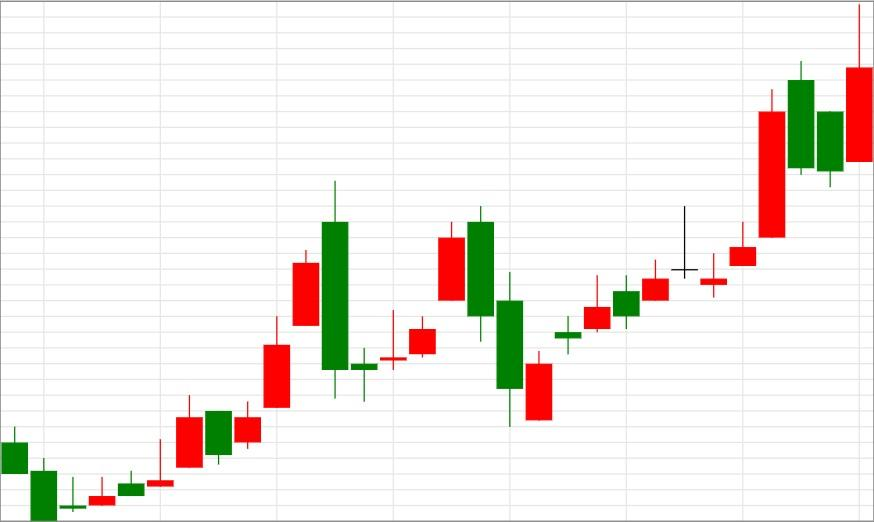bearish_engulfing_fall: (30, 181, 349, 521), (350, 207, 495, 401)
